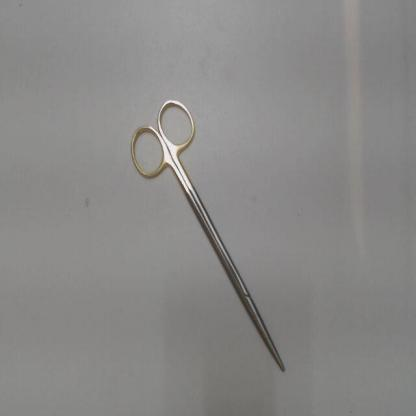7 Metzenbaum Scissors: (126, 93, 289, 376)
